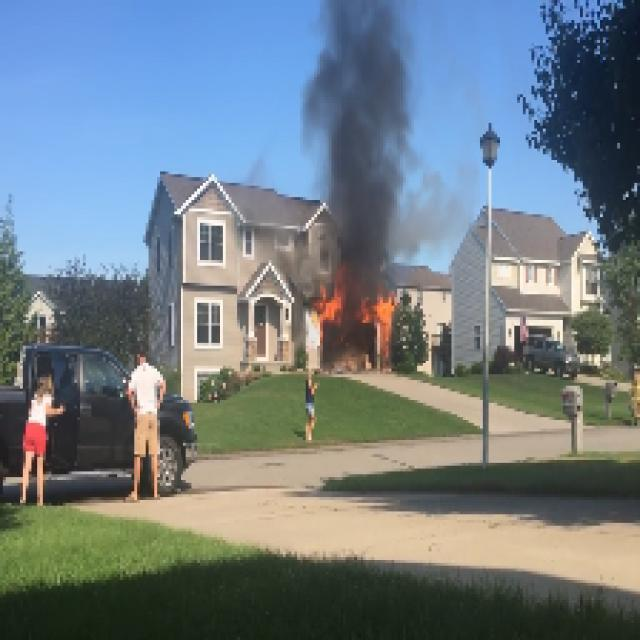Fire: (306, 277, 398, 323)
Smoke: (314, 3, 452, 260)
